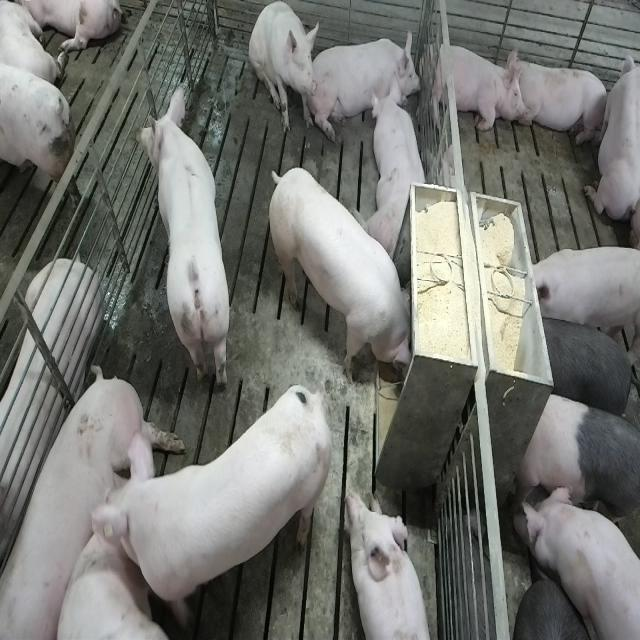Feeding: (273, 166, 421, 388)
Lateral_lying: (2, 361, 188, 635), (0, 256, 103, 586)
Sitting: (249, 2, 320, 138)
Standing: (95, 383, 333, 629), (136, 87, 233, 396), (513, 390, 638, 572), (510, 479, 638, 640), (528, 309, 636, 422), (524, 245, 637, 350)
Sternal_lying: (347, 487, 434, 640), (314, 26, 422, 137), (369, 83, 430, 262), (583, 42, 637, 231), (425, 37, 525, 135), (511, 52, 610, 148)
